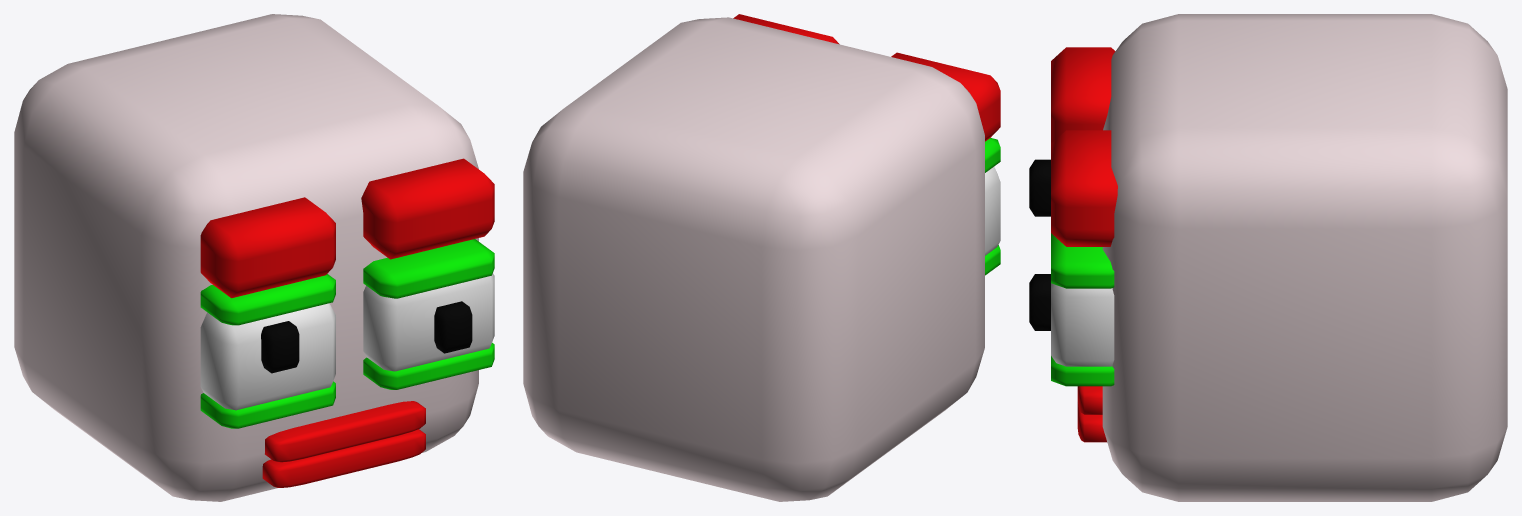
Rendered from robot_head7.glb.
The picture shows the model from 3 angles, left to right: view 1: azimuth 30°, elevation 25°; view 2: azimuth 150°, elevation 25°; view 3: azimuth 270°, elevation 25°; orthographic projection. The views are drawn at different scales.
Parts seen in each view (by area): view 1: robot_head; view 2: robot_head; view 3: robot_head.
Part boxes in pixels (<box>): robot_head: <box>14,14,494,501</box>; robot_head: <box>523,14,1000,501</box>; robot_head: <box>1029,14,1507,501</box>.
Size of the model in its own units: 0.8 by 0.8 by 0.9449.
